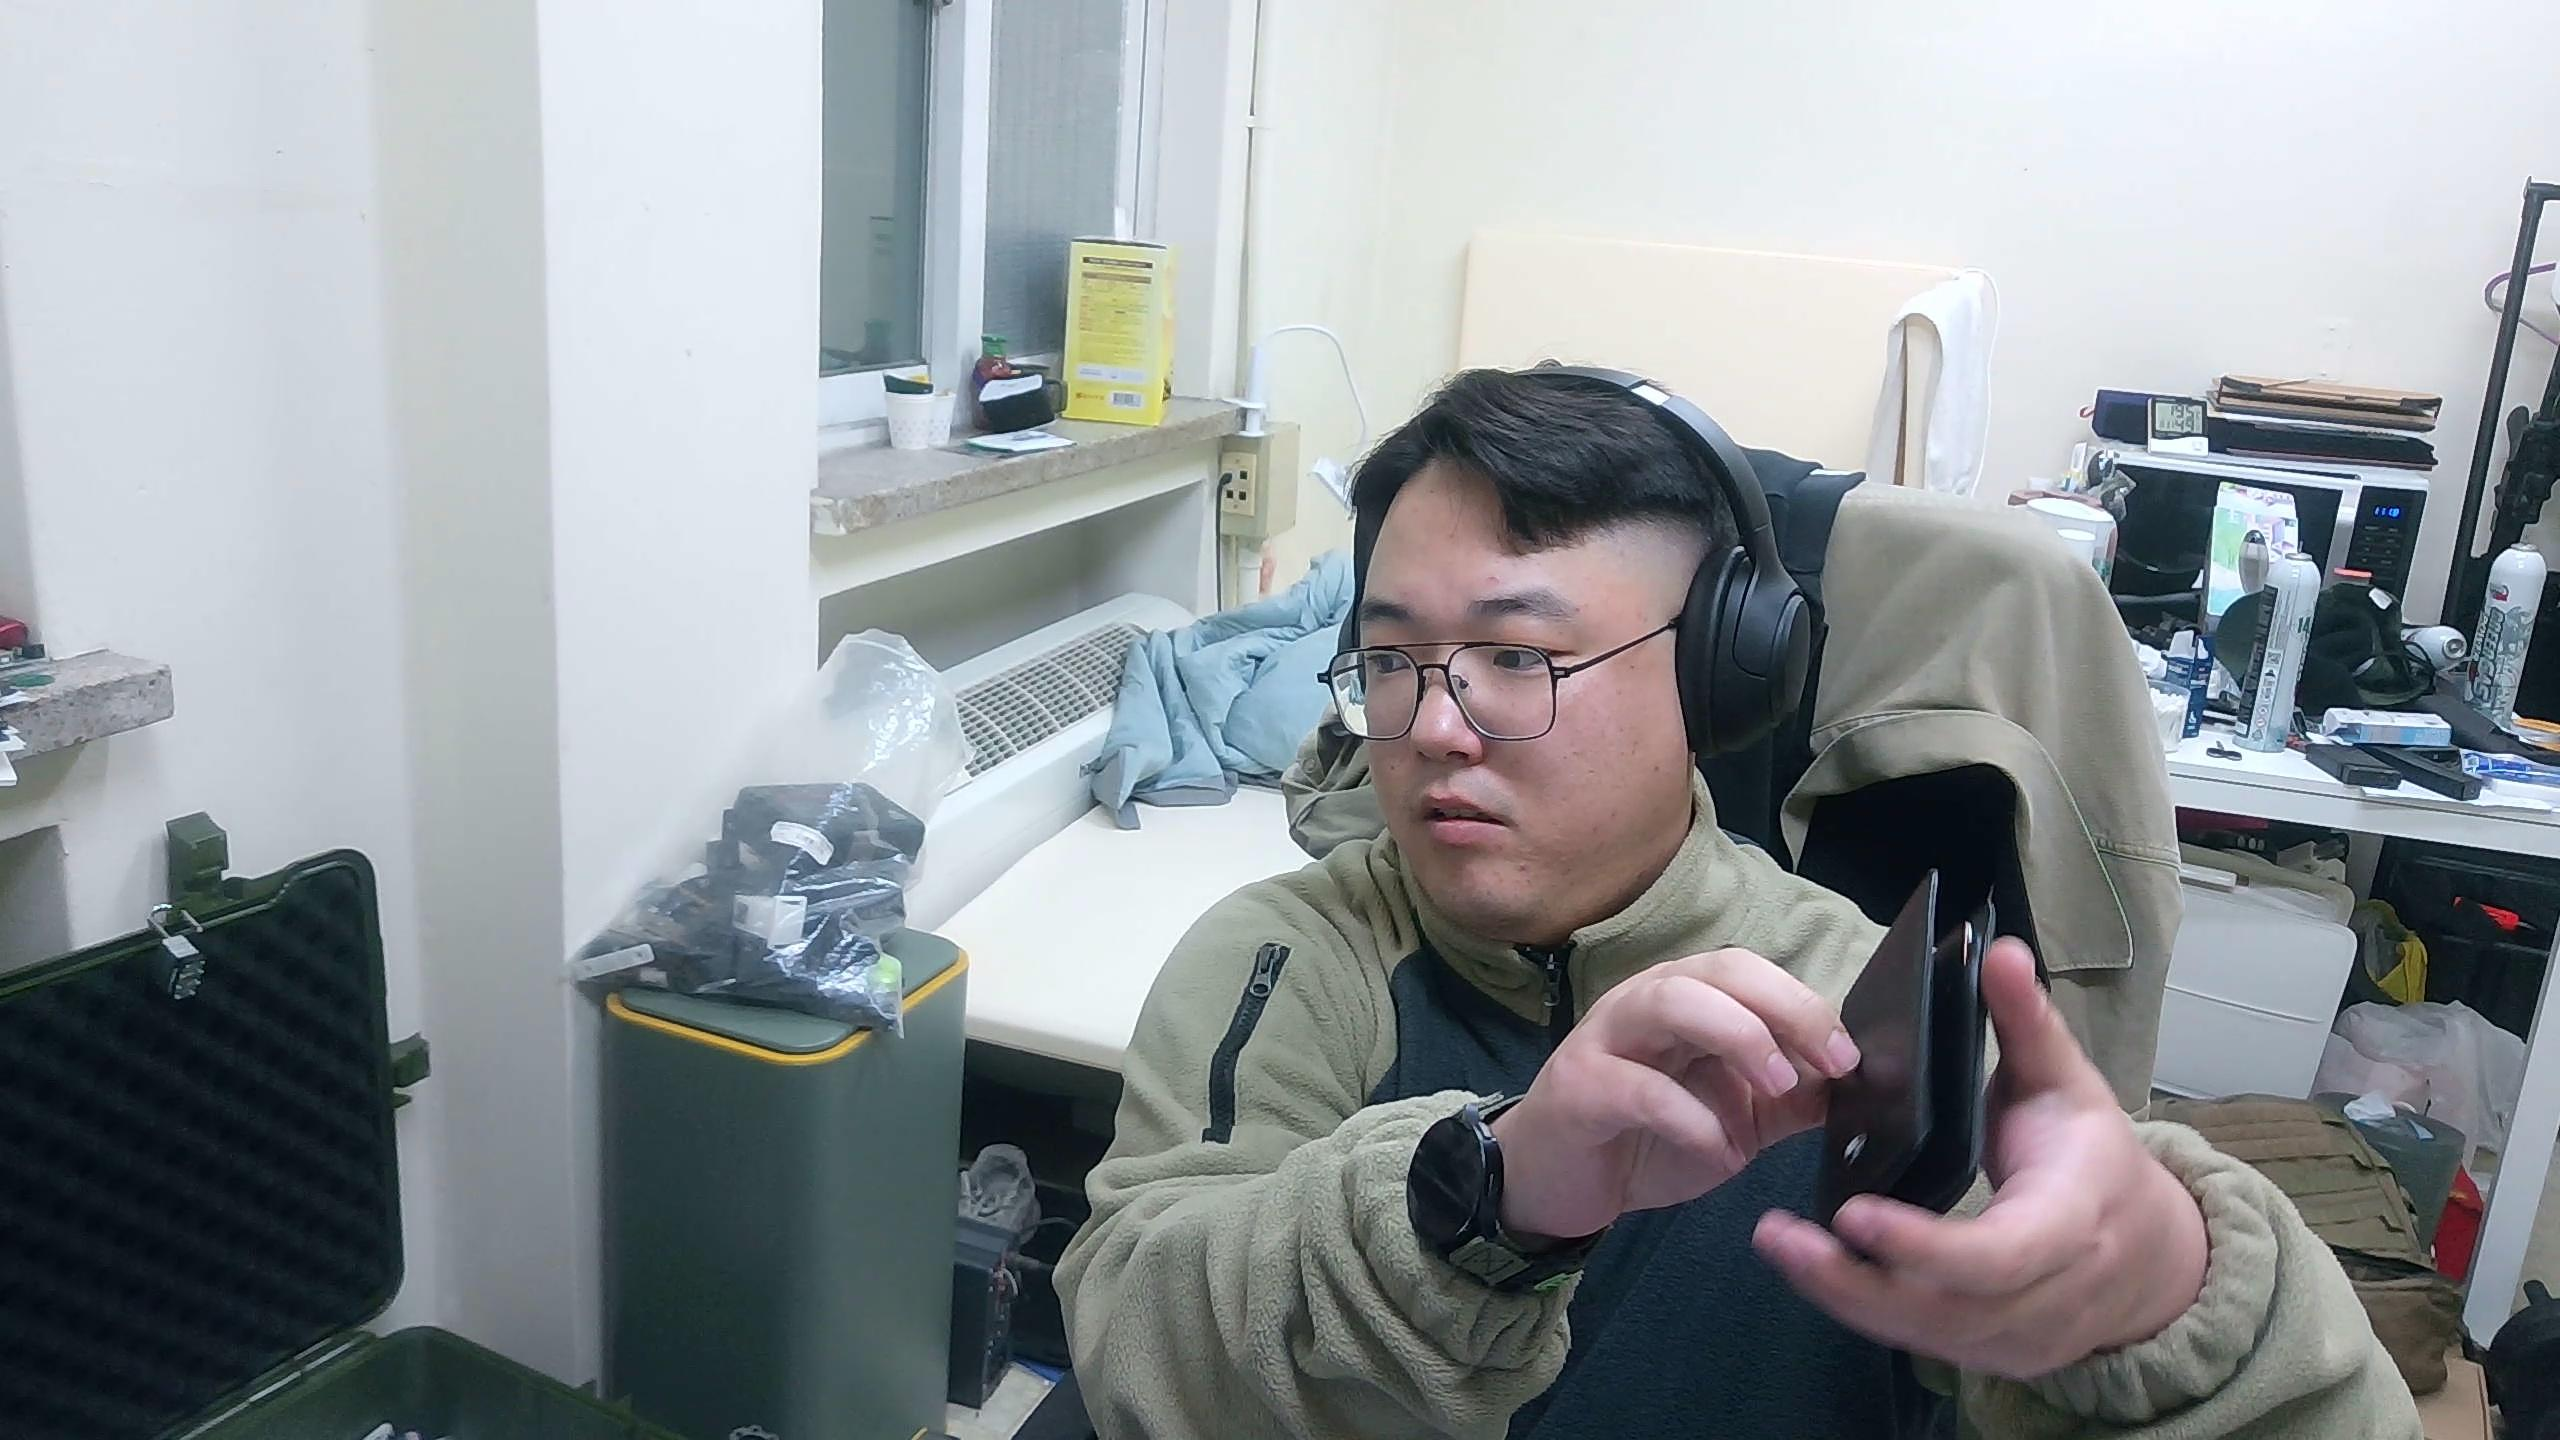Wallet: (1811, 865, 1996, 1233)
